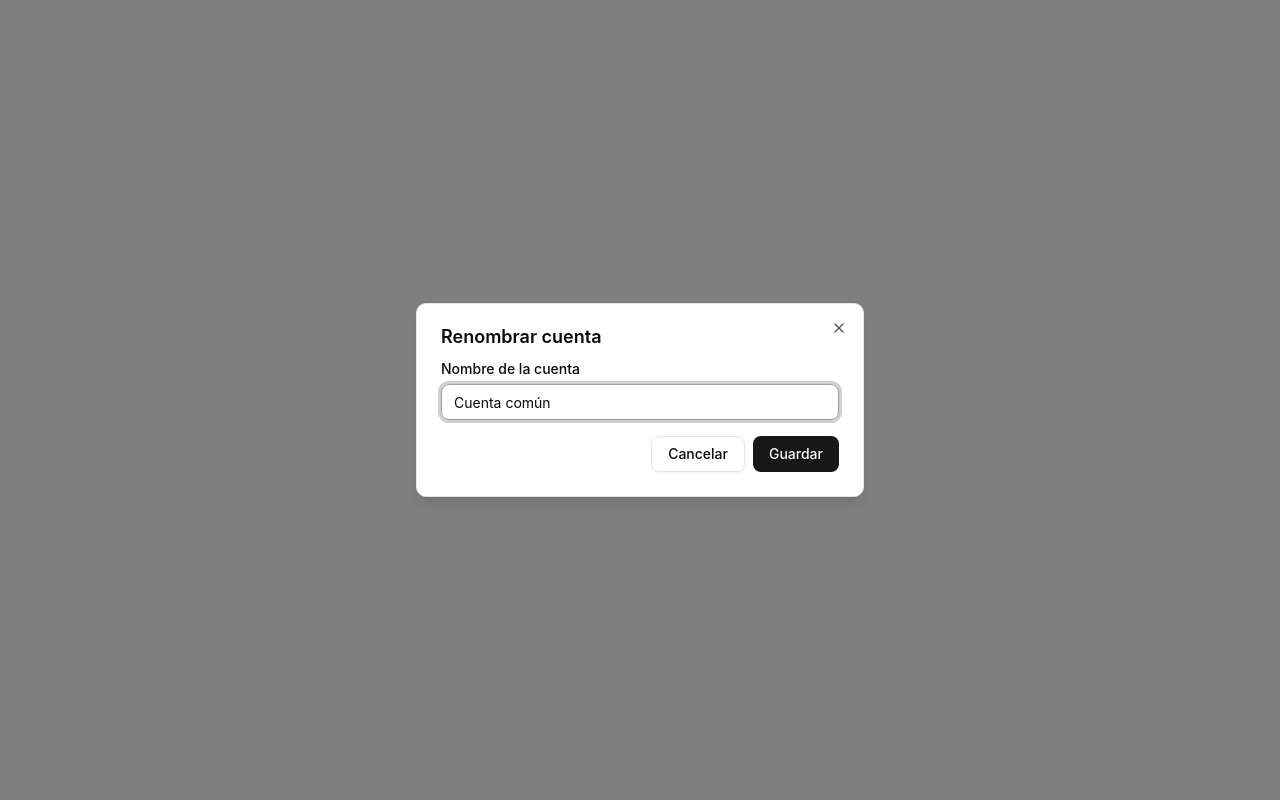
Test: RenameAccountDialog › en error muestra el mensaje con role=alert y conserva el nombre tecleado (SC-004)
Step 1. Replace the text in the field labelled "Nombre de la cuenta" with "Cuenta conjunta" → point(640, 402), box left=441, top=384, right=839, bottom=420
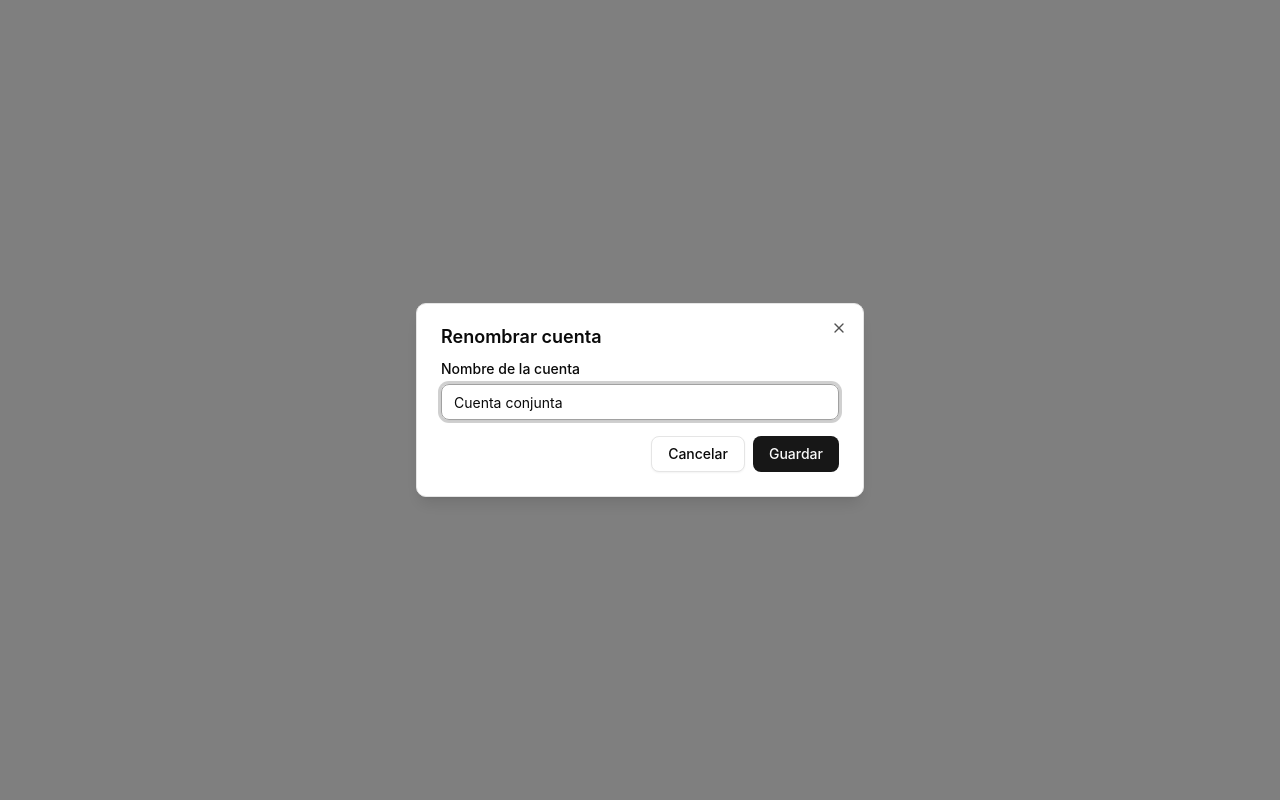
Step 2. Click the button "Guardar" → point(796, 454), box left=753, top=436, right=839, bottom=472
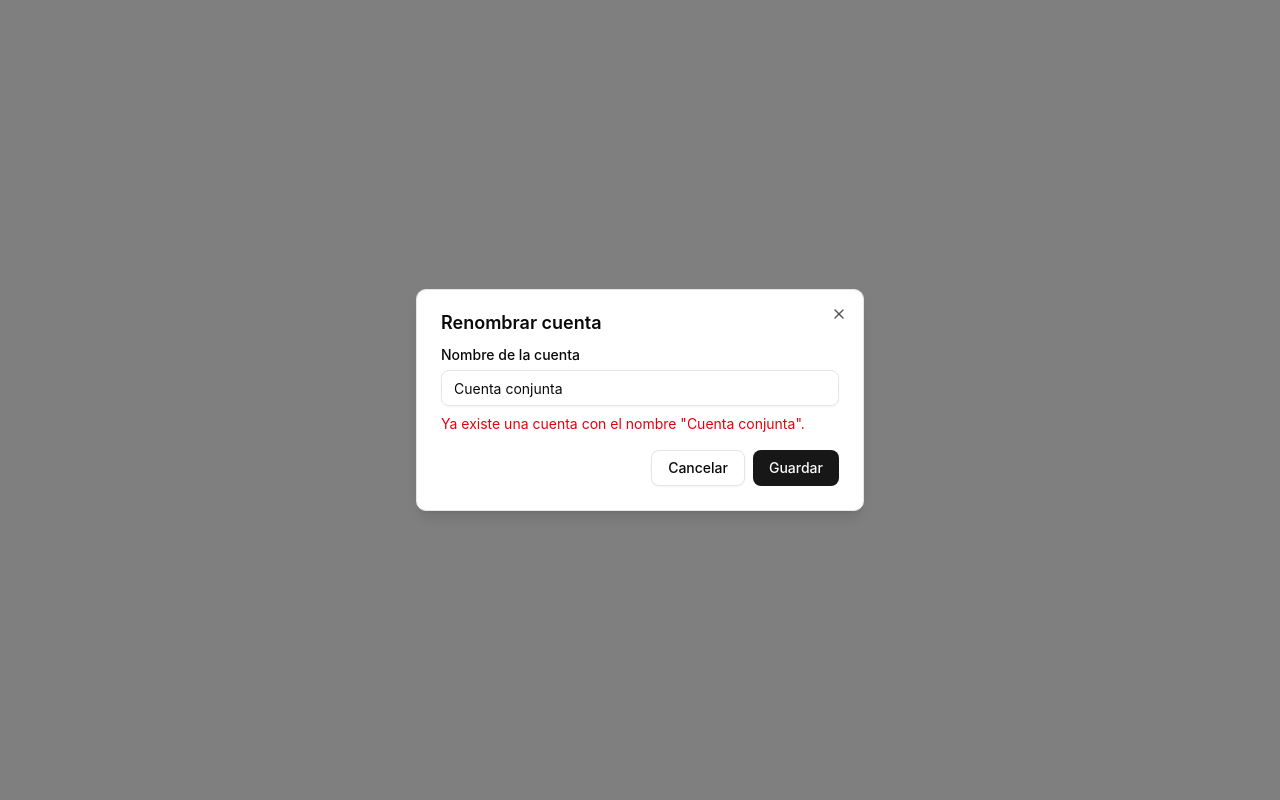
Result: the message reads "Ya existe una cuenta con el nombre \"Cuenta conjunta\"." at left=441, top=415, right=805, bottom=432
